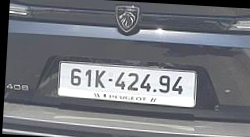Bien-so: (56, 60, 200, 104)
